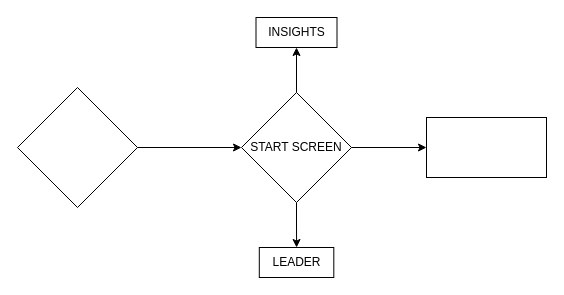
This 564x295 diagram has some shape labels left out. The shapes that lost their labels are listed below. From the top down, each one's centre as x and y in pixels, then its label:
the point at 77,147: SPLASH SCREEN
the point at 486,147: PLAY
